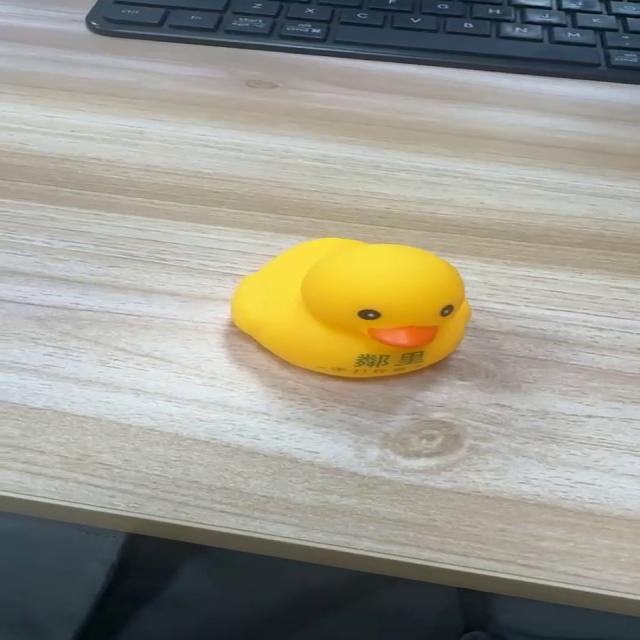yellow_duck: (228, 235, 472, 379)
